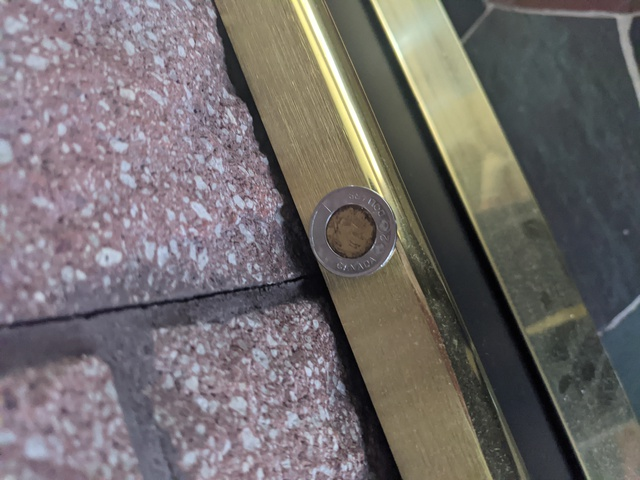twonie: (304, 177, 403, 280)
